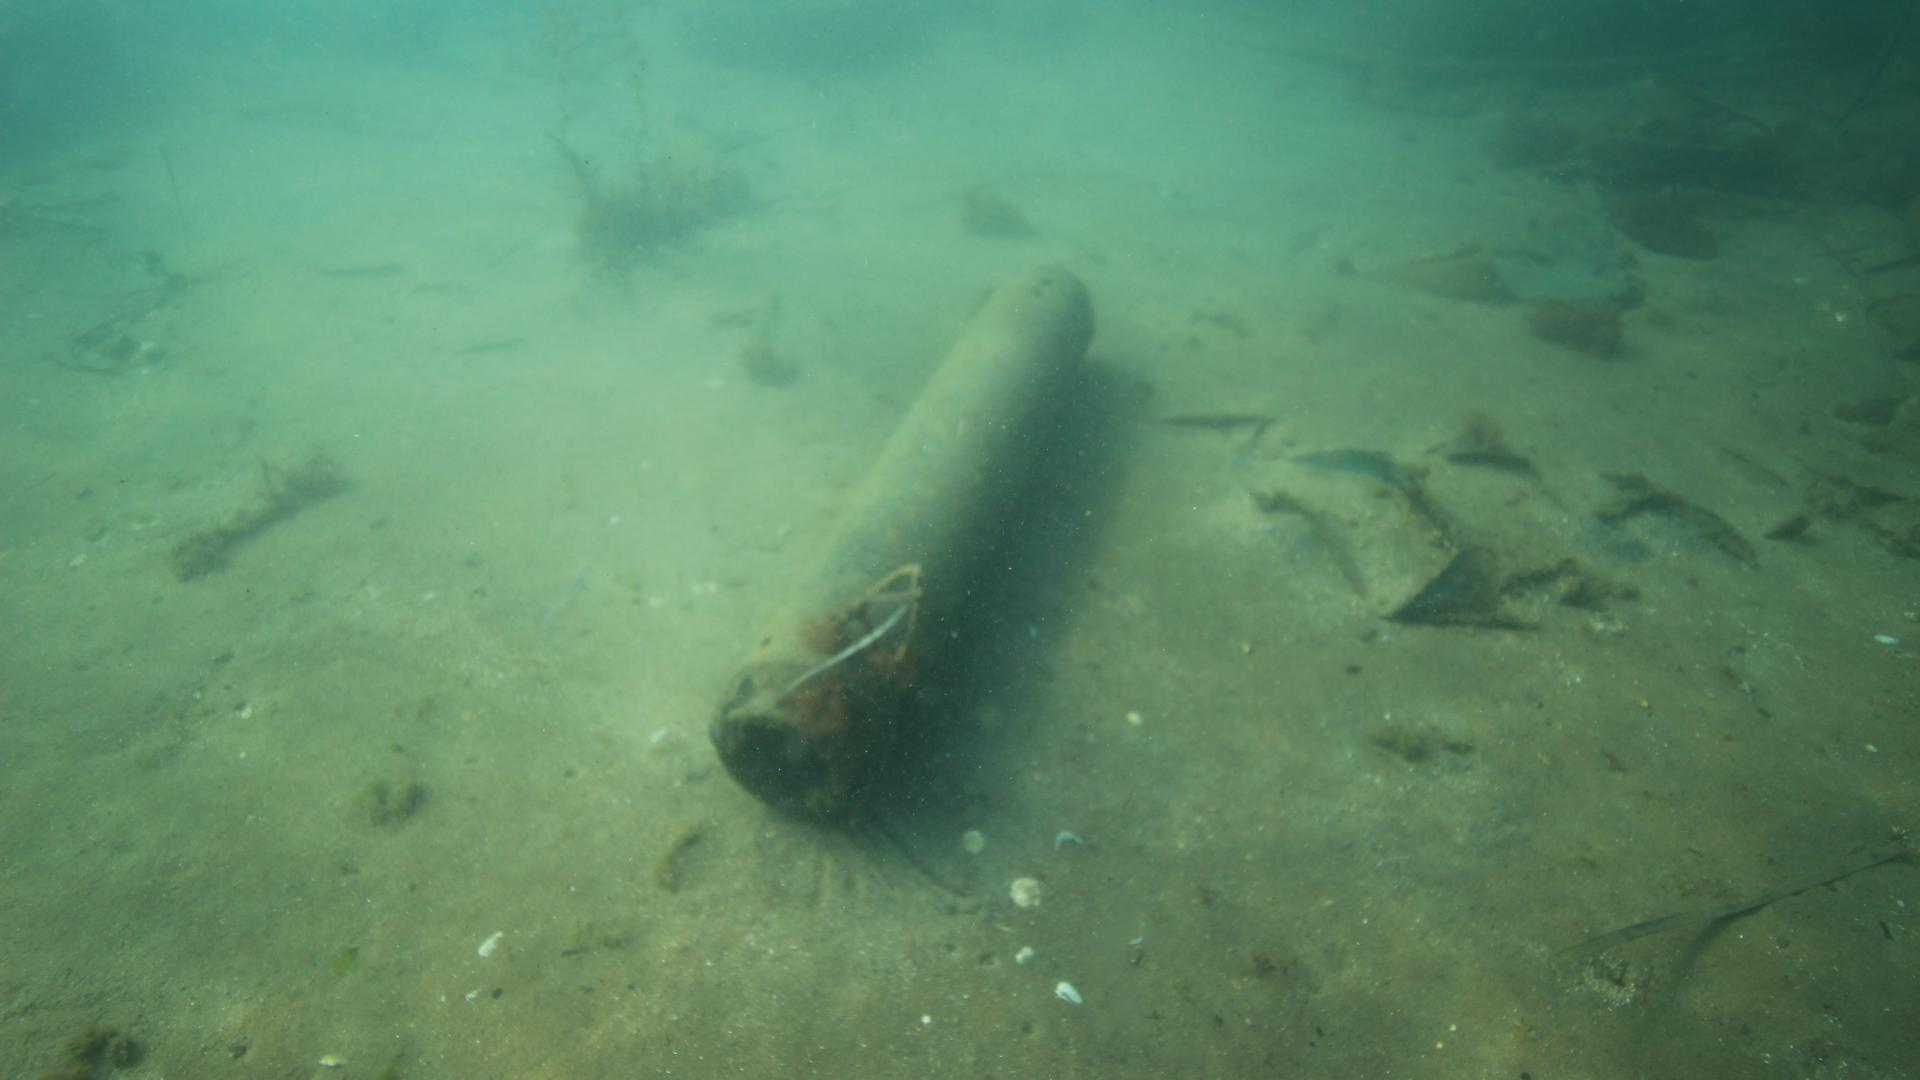eel fish trap: (702, 258, 1098, 822)
